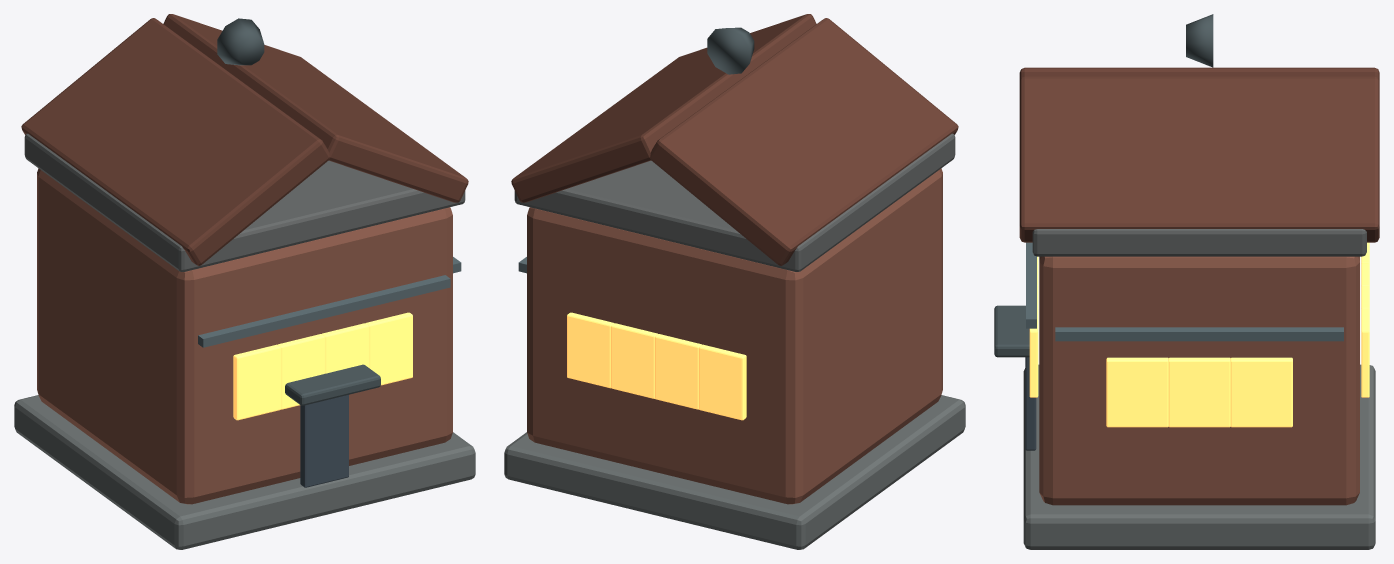
The model's file is residential_rowhouse_brick.glb.
3 renders of one model, left to right at view 1: azimuth 30°, elevation 25°; view 2: azimuth 150°, elevation 25°; view 3: azimuth 270°, elevation 25°, orthographic. The views are drawn at different scales.
Parts seen in each view (by area): view 1: main_massing, sloped_roof, foundation, roof_slab, sloped_roof.001, entry_door, facade_band_front, front_window, front_window.003, entry_canopy, front_window.001, front_window.002 (+1 smaller); view 2: main_massing, sloped_roof, foundation, roof_slab, sloped_roof.001, rear_window, rear_window.002, rear_window.003, rear_window.001, roof_vent_cap; view 3: main_massing, sloped_roof.001, foundation, roof_slab, side_window, side_window.001, side_window.002, facade_band_side, sloped_roof, entry_canopy, roof_vent_cap, facade_band_front (+3 smaller).
Boxes of the visible parts, <box> form: main_massing: <box>37,168,452,504</box>; sloped_roof: <box>21,18,329,265</box>; foundation: <box>14,395,475,549</box>; roof_slab: <box>24,133,465,271</box>; sloped_roof.001: <box>163,14,468,202</box>; entry_door: <box>300,395,348,487</box>; facade_band_front: <box>198,275,450,347</box>; front_window: <box>233,344,280,420</box>; front_window.003: <box>366,312,412,385</box>; entry_canopy: <box>285,364,380,405</box>; front_window.001: <box>278,334,324,409</box>; front_window.002: <box>322,323,368,373</box>; main_massing: <box>527,168,942,504</box>; sloped_roof: <box>650,18,958,265</box>; foundation: <box>504,395,965,549</box>; roof_slab: <box>514,133,955,271</box>; sloped_roof.001: <box>511,14,816,202</box>; rear_window: <box>699,344,746,420</box>; rear_window.002: <box>611,323,657,398</box>; rear_window.003: <box>567,312,613,388</box>; rear_window.001: <box>655,334,701,409</box>; roof_vent_cap: <box>707,27,754,74</box>; main_massing: <box>1039,256,1359,505</box>; sloped_roof.001: <box>1019,76,1379,242</box>; foundation: <box>1023,364,1375,549</box>; roof_slab: <box>1032,229,1366,256</box>; side_window: <box>1230,357,1292,427</box>; side_window.001: <box>1168,357,1230,427</box>; side_window.002: <box>1106,357,1168,427</box>; facade_band_side: <box>1055,327,1343,341</box>; sloped_roof: <box>1019,67,1379,80</box>; entry_canopy: <box>994,305,1029,357</box>; roof_vent_cap: <box>1186,14,1213,67</box>; facade_band_front: <box>1026,242,1036,328</box>.
Size of the model in its own units: 0.94 by 1.3 by 0.985.
